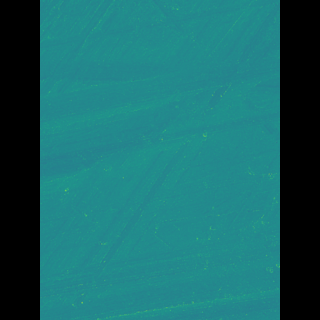Loch: (161, 3, 250, 269)
